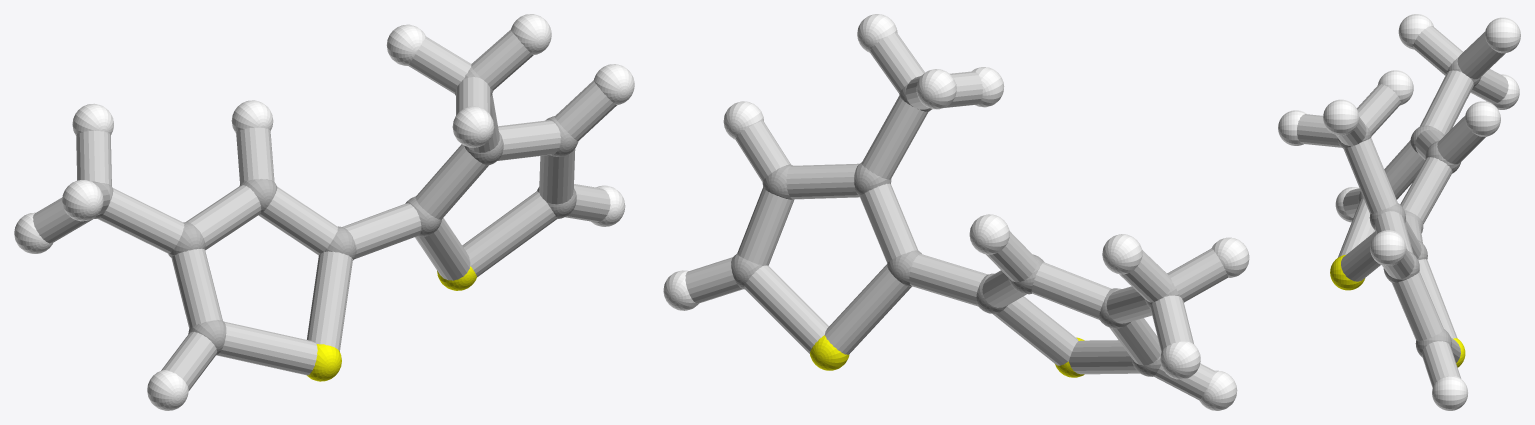
The model's file is color.glb.
The picture shows the model from 3 angles, left to right: view 1: azimuth 30°, elevation 25°; view 2: azimuth 150°, elevation 25°; view 3: azimuth 270°, elevation 25°; orthographic projection. The views are drawn at different scales.
Visible parts, largest first — view 1: grp7965, grp3621, grp1, grp7241; view 2: grp7965, grp3621, grp1, grp7241; view 3: grp7965, grp3621, grp1, grp7241.
Part boxes in pixels (<box>): grp7965: <box>32,29,616,390</box>; grp3621: <box>14,14,634,410</box>; grp1: <box>93,67,578,354</box>; grp7241: <box>307,266,476,381</box>; grp7965: <box>685,32,1227,400</box>; grp3621: <box>663,14,1249,410</box>; grp1: <box>731,84,1179,376</box>; grp7241: <box>810,335,1084,377</box>; grp7965: <box>1297,26,1508,387</box>; grp3621: <box>1278,14,1520,410</box>; grp1: <box>1337,58,1481,357</box>; grp7241: <box>1330,255,1465,367</box>.
Size of the model in its own units: 9.6 by 5.03 by 4.03.
